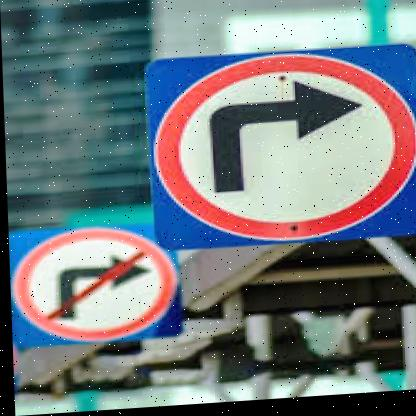No right turn: (17, 229, 173, 349)
